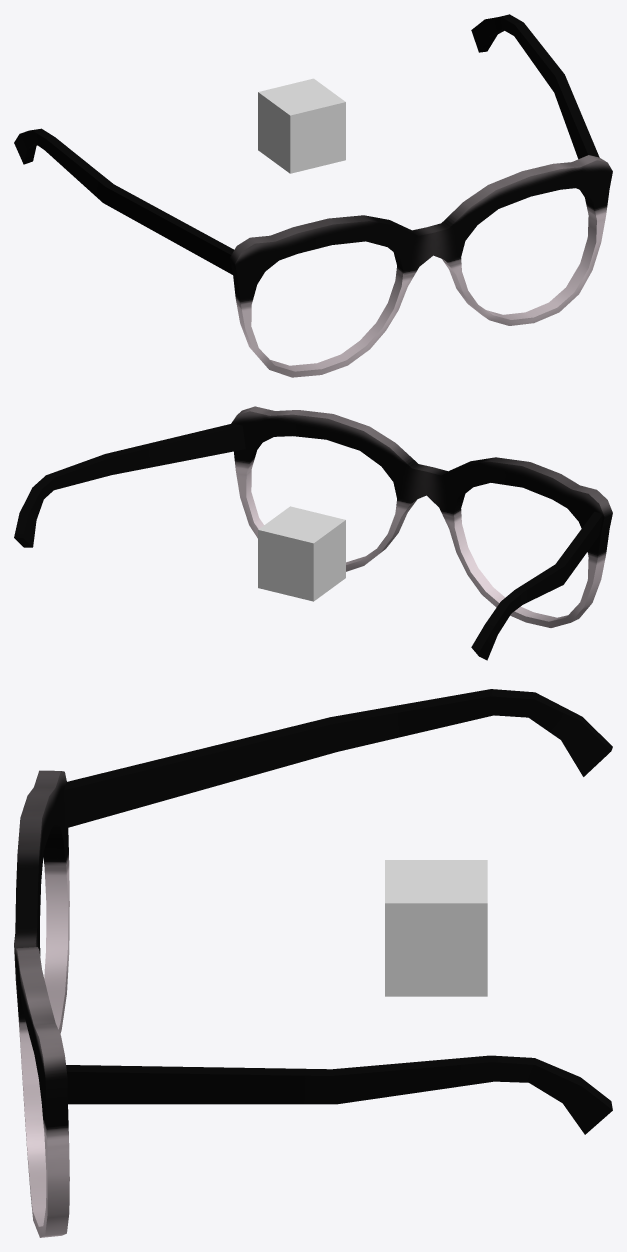
The model's file is boy_glasses2.FBX.
3 renders of one model, top to bottom at view 1: azimuth 30°, elevation 25°; view 2: azimuth 150°, elevation 25°; view 3: azimuth 270°, elevation 25°, orthographic. The views are drawn at different scales.
Parts seen in each view (by area): view 1: boy_glasses13, faceSpawn; view 2: boy_glasses13, faceSpawn; view 3: boy_glasses13, faceSpawn.
Boxes of the visible parts, x1=… form: boy_glasses13: x1=14, y1=14, x2=612, y2=377; faceSpawn: x1=258, y1=78, x2=345, y2=173; boy_glasses13: x1=14, y1=406, x2=612, y2=660; faceSpawn: x1=258, y1=506, x2=345, y2=601; boy_glasses13: x1=14, y1=689, x2=612, y2=1237; faceSpawn: x1=385, y1=860, x2=487, y2=996.
Bounding box in the file's own units: 42.97 × 14.05 × 29.12.
